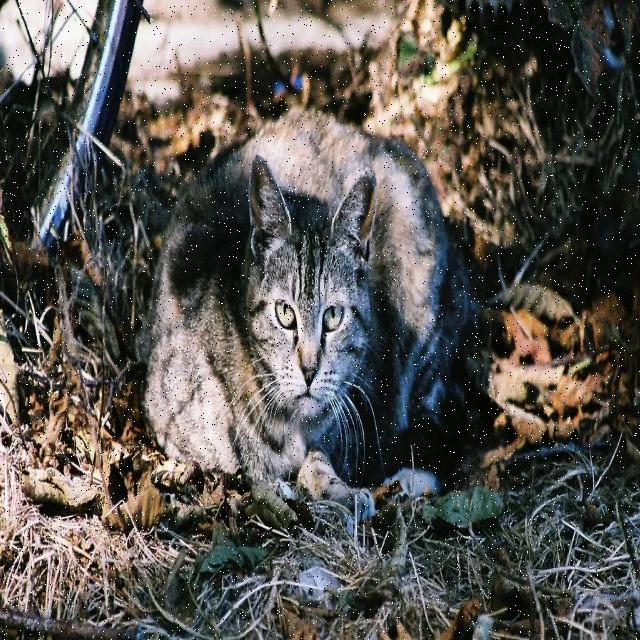cat: (139, 111, 479, 518)
